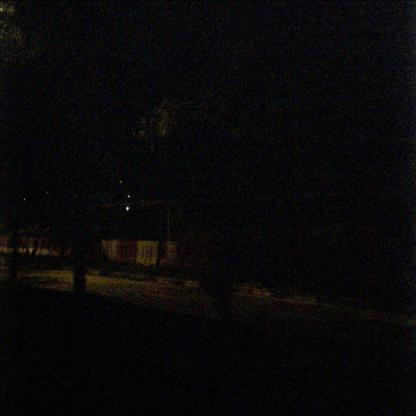barrier: (159, 241, 182, 272), (136, 241, 160, 269), (117, 240, 138, 267), (65, 234, 86, 261), (100, 239, 118, 263), (48, 233, 64, 256), (36, 234, 49, 256), (3, 233, 16, 254), (16, 236, 28, 254), (26, 236, 37, 254), (0, 234, 5, 253)
